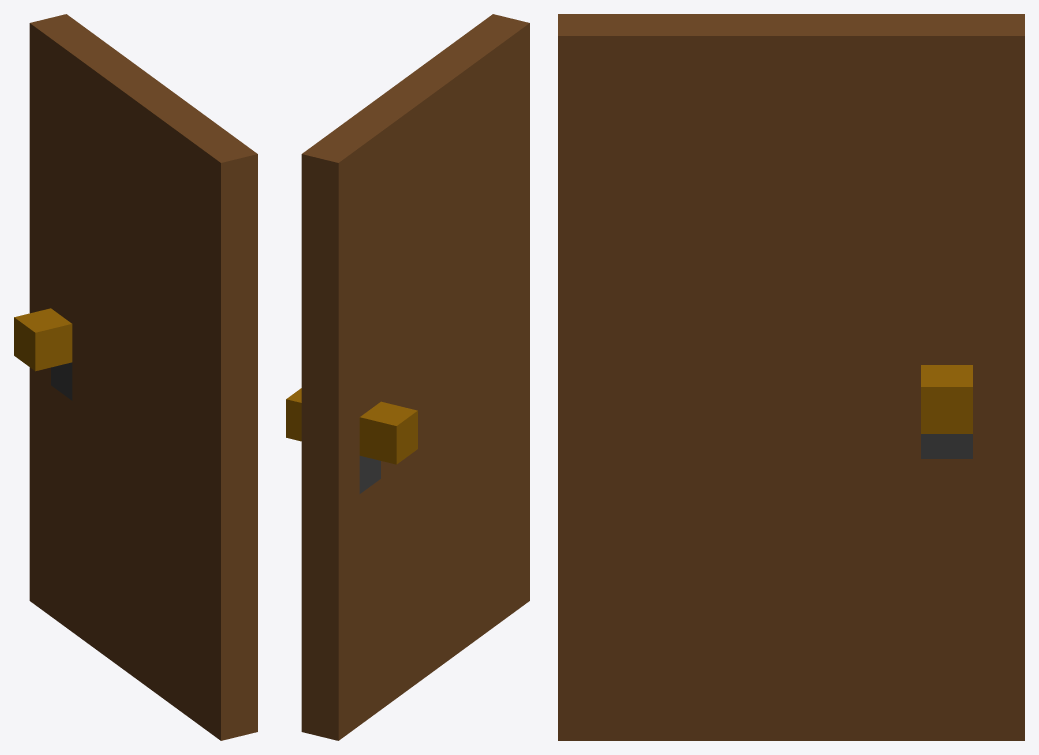
Rendered from Door B 3.obj.
3 views of the same model, side by side, from view 1: azimuth 30°, elevation 25°; view 2: azimuth 150°, elevation 25°; view 3: azimuth 270°, elevation 25° (orthographic). The views are drawn at different scales.
Visible parts, largest first — view 1: Door B 3; view 2: Door B 3; view 3: Door B 3.
Part boxes in pixels (x1,y1,x2,y2): Door B 3: (14, 14, 257, 740); Door B 3: (286, 14, 529, 740); Door B 3: (558, 14, 1024, 740).
Size of the model in its own units: 3 by 15 by 9.
